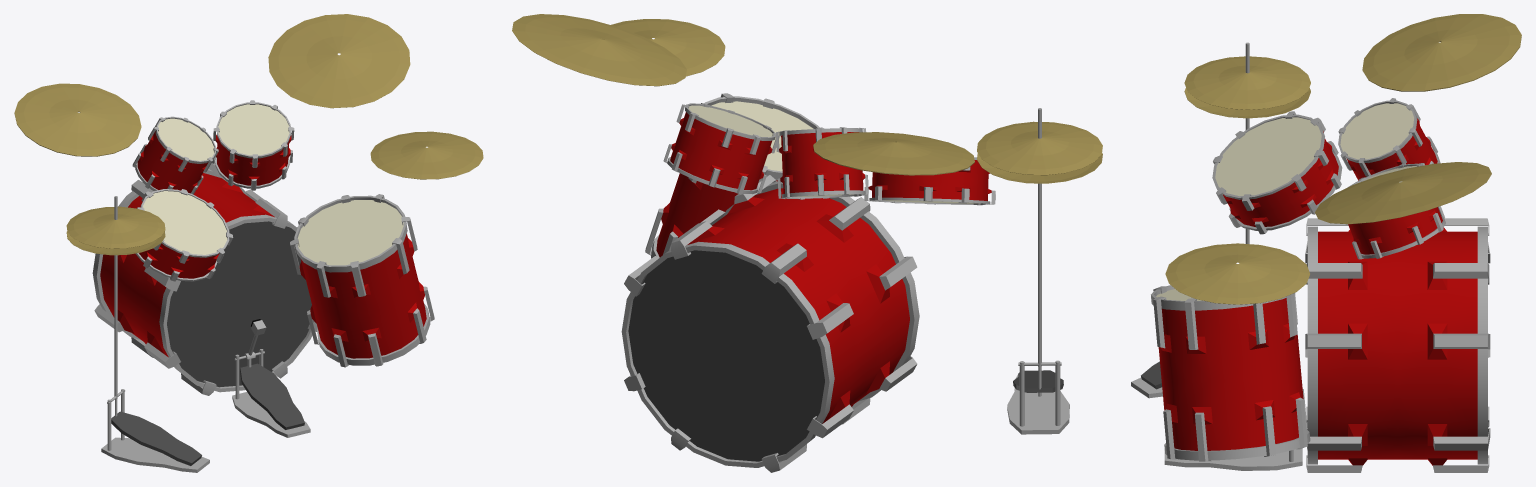
3 renders of one model, left to right at view 1: azimuth 30°, elevation 25°; view 2: azimuth 150°, elevation 25°; view 3: azimuth 270°, elevation 25°, orthographic. The views are drawn at different scales.
Visible parts, largest first — view 1: bass_drum, floor_tom, ride_cymbal, crash_cymbal, snare_drum, mid_tom, hihatPedal_top, high_tom, splash_cymbal, hihatPedal_bottom, bassPedal_top, bassPedal_bottom; view 2: bass_drum, ride_cymbal, mid_tom, hihatPedal_top, floor_tom, crash_cymbal, hihatPedal_bottom, high_tom, snare_drum, splash_cymbal; view 3: bass_drum, floor_tom, snare_drum, crash_cymbal, splash_cymbal, ride_cymbal, hihatPedal_top, high_tom, mid_tom, hihatPedal_bottom, bassPedal_bottom.
Boxes of the visible parts, box(x1,y1,x2,y2) form: bass_drum: box(92, 163, 317, 395); floor_tom: box(290, 194, 434, 367); ride_cymbal: box(268, 14, 410, 108); crash_cymbal: box(14, 83, 141, 156); snare_drum: box(135, 189, 233, 281); mid_tom: box(212, 100, 294, 190); hihatPedal_top: box(66, 206, 201, 465); high_tom: box(132, 116, 218, 194); splash_cymbal: box(370, 131, 483, 179); hihatPedal_bottom: box(66, 196, 209, 472); bassPedal_top: box(240, 358, 304, 429); bassPedal_bottom: box(232, 349, 310, 437); bass_drum: box(621, 175, 919, 472); ride_cymbal: box(512, 14, 686, 86); mid_tom: box(663, 103, 779, 194); hihatPedal_top: box(977, 121, 1102, 396); floor_tom: box(645, 93, 823, 258); crash_cymbal: box(813, 132, 974, 175); hihatPedal_bottom: box(977, 108, 1102, 434); high_tom: box(776, 127, 868, 199); snare_drum: box(864, 157, 995, 205); splash_cymbal: box(601, 19, 725, 76); bass_drum: box(1305, 218, 1490, 472); floor_tom: box(1151, 285, 1310, 461); snare_drum: box(1212, 111, 1342, 234); crash_cymbal: box(1362, 14, 1521, 91); splash_cymbal: box(1165, 243, 1309, 304); ride_cymbal: box(1315, 162, 1491, 224); hihatPedal_top: box(1141, 56, 1310, 389); high_tom: box(1338, 98, 1440, 180); mid_tom: box(1347, 163, 1445, 259); hihatPedal_bottom: box(1131, 42, 1310, 398); bassPedal_bottom: box(1164, 448, 1302, 470).
Bounding box in the file's own units: 125 × 87.38 × 83.33.
